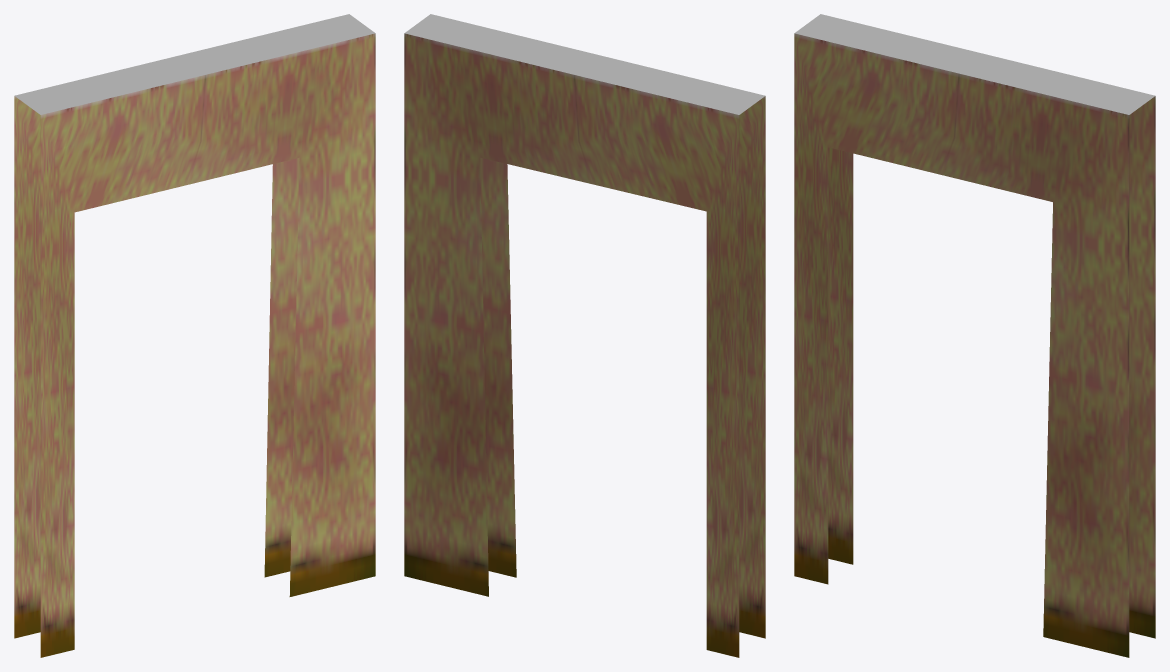
File: W_I2_o [RosaPlastik]_137.glb
3 views of the same model, side by side, from view 1: azimuth 30°, elevation 25°; view 2: azimuth 150°, elevation 25°; view 3: azimuth 330°, elevation 25° (orthographic).
Visible parts, largest first — view 1: pPlaneShape2, pPlaneShape3, pPlaneShape1; view 2: pPlaneShape3, pPlaneShape2, pPlaneShape1; view 3: pPlaneShape2, pPlaneShape3, pPlaneShape1.
Boxes of the visible parts, box(x1,y1,x2,y2) form: pPlaneShape2: box(40, 33, 375, 657); pPlaneShape3: box(14, 96, 299, 638); pPlaneShape1: box(14, 14, 375, 114); pPlaneShape3: box(404, 33, 739, 657); pPlaneShape2: box(480, 96, 765, 638); pPlaneShape1: box(405, 14, 765, 114); pPlaneShape2: box(794, 33, 1129, 657); pPlaneShape3: box(828, 96, 1155, 638); pPlaneShape1: box(795, 14, 1155, 114).
Bounding box in the file's own units: 0.2252 × 0.3486 × 0.0308.
3 materials, 2 textured.
